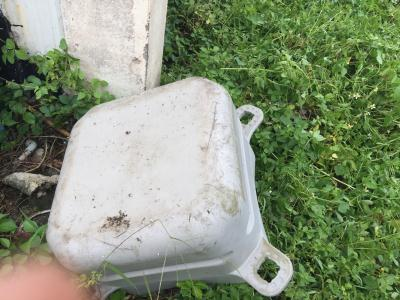box: (41, 73, 300, 298)
